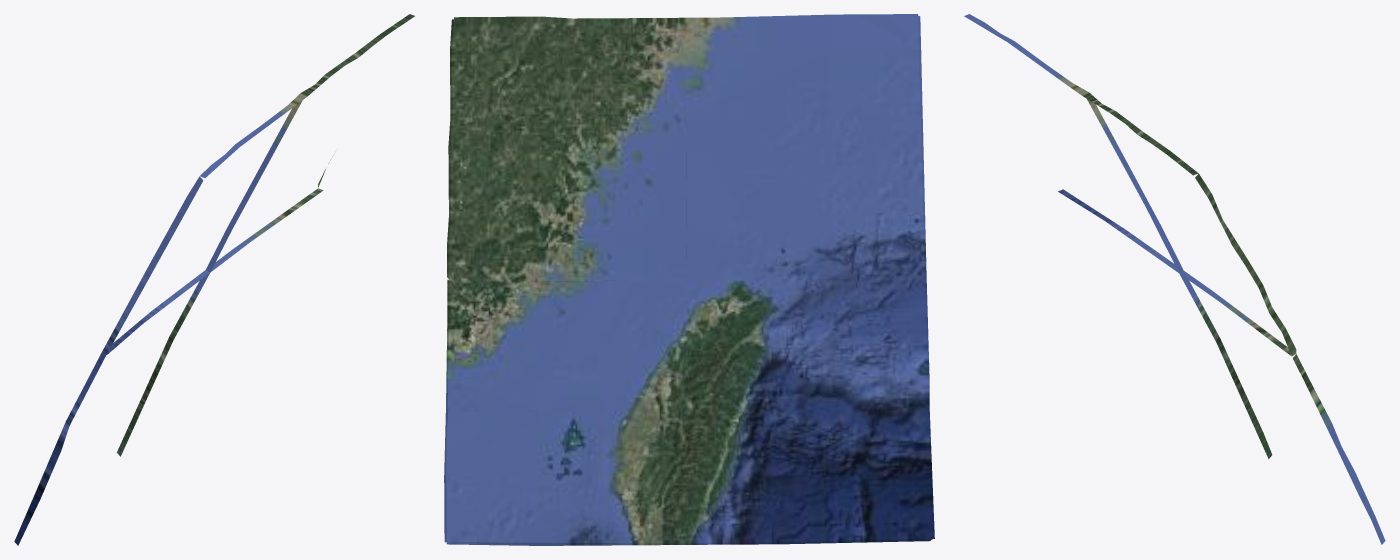
3 views of the same model, side by side, from view 1: azimuth 30°, elevation 25°; view 2: azimuth 150°, elevation 25°; view 3: azimuth 270°, elevation 25° (orthographic). The views are drawn at different scales.
Bounding box in the file's own units: 626207 × 574782 × 528148.
Materials: 1 (1 with a texture image).
